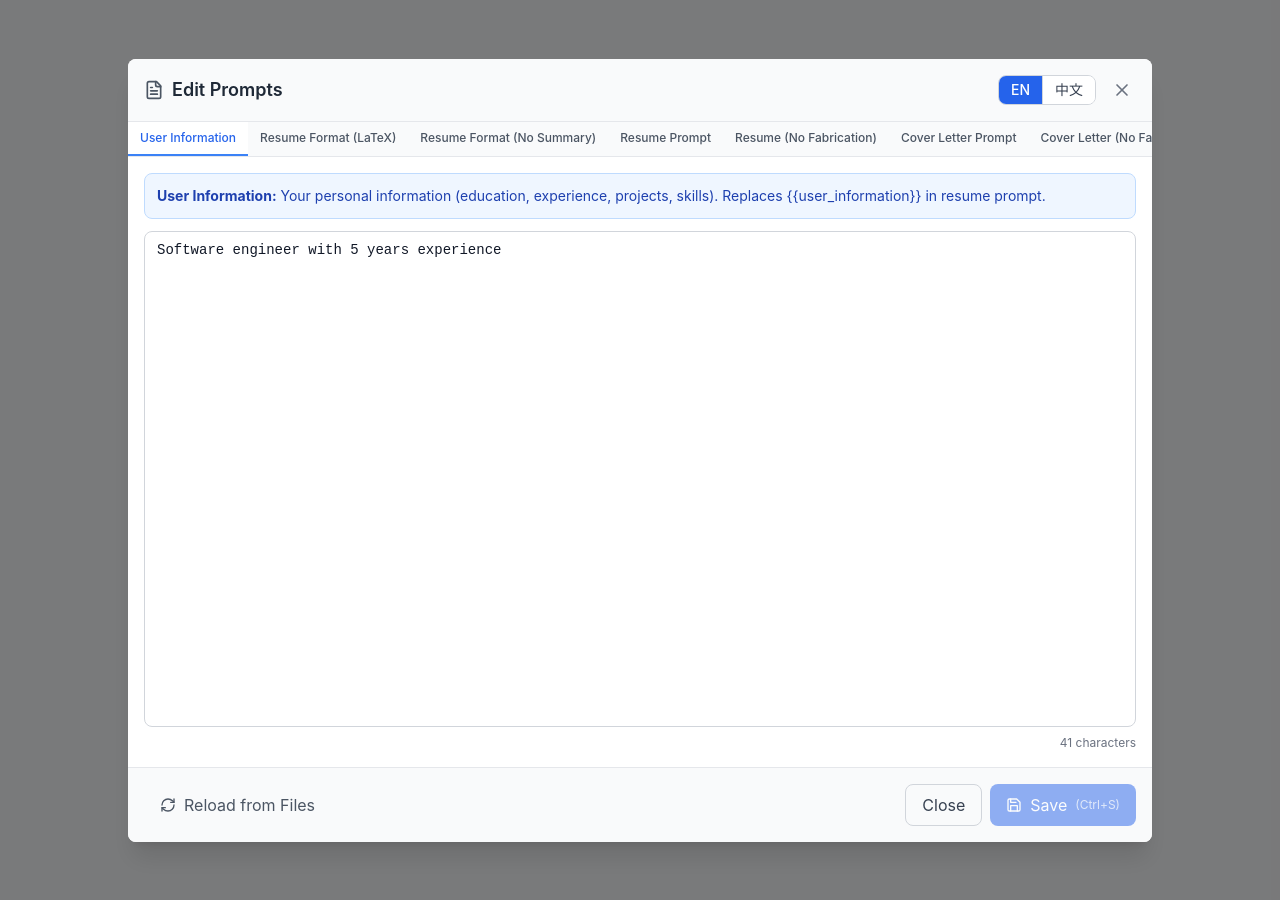
PromptsPanel › shows warnings from save response
// Make a change and save
Replace the text in the text box with "Missing placeholders" at (640, 478), box [144,230,1136,726]
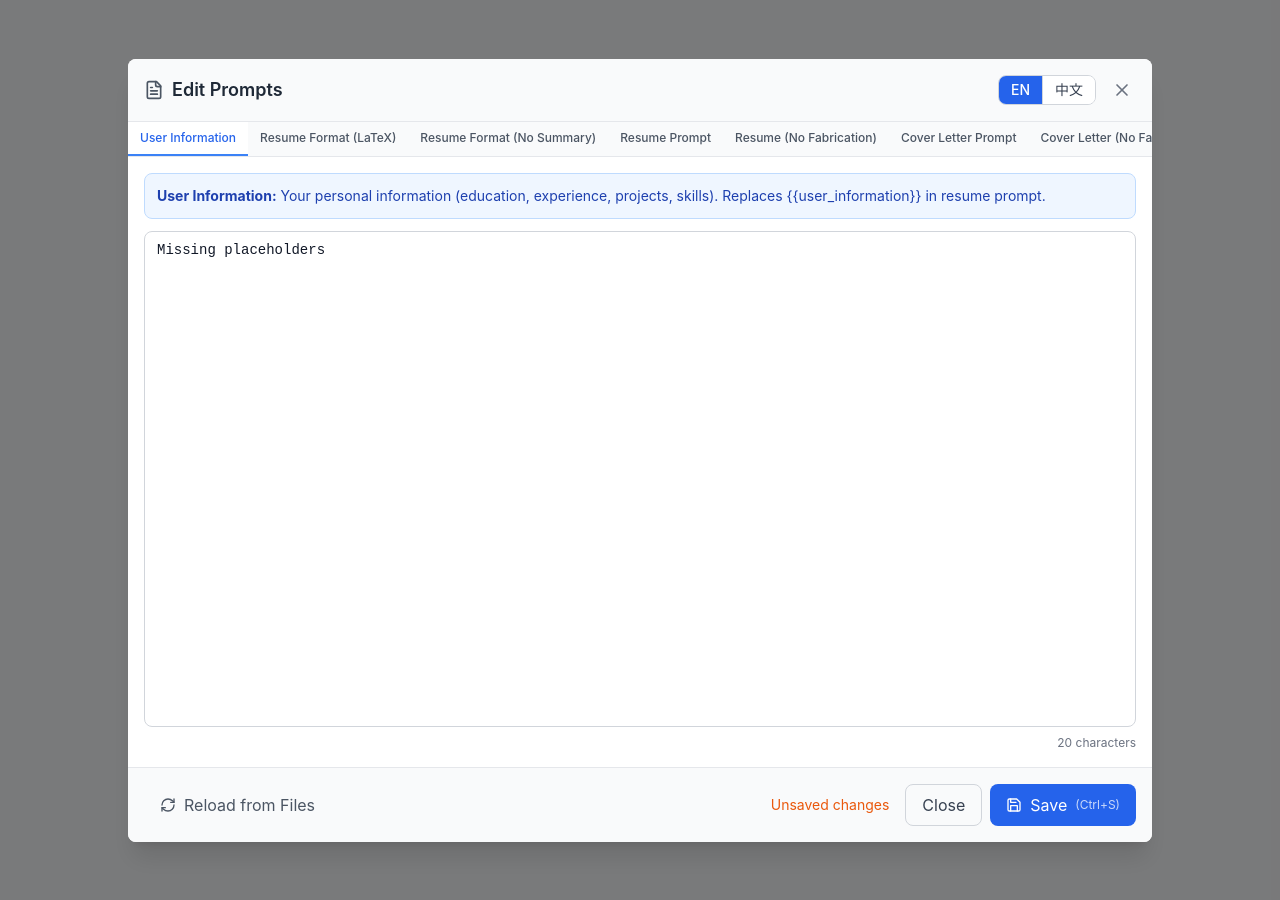
Click the button "Save (Ctrl+S)" at (1063, 804), box [990,784,1136,826]
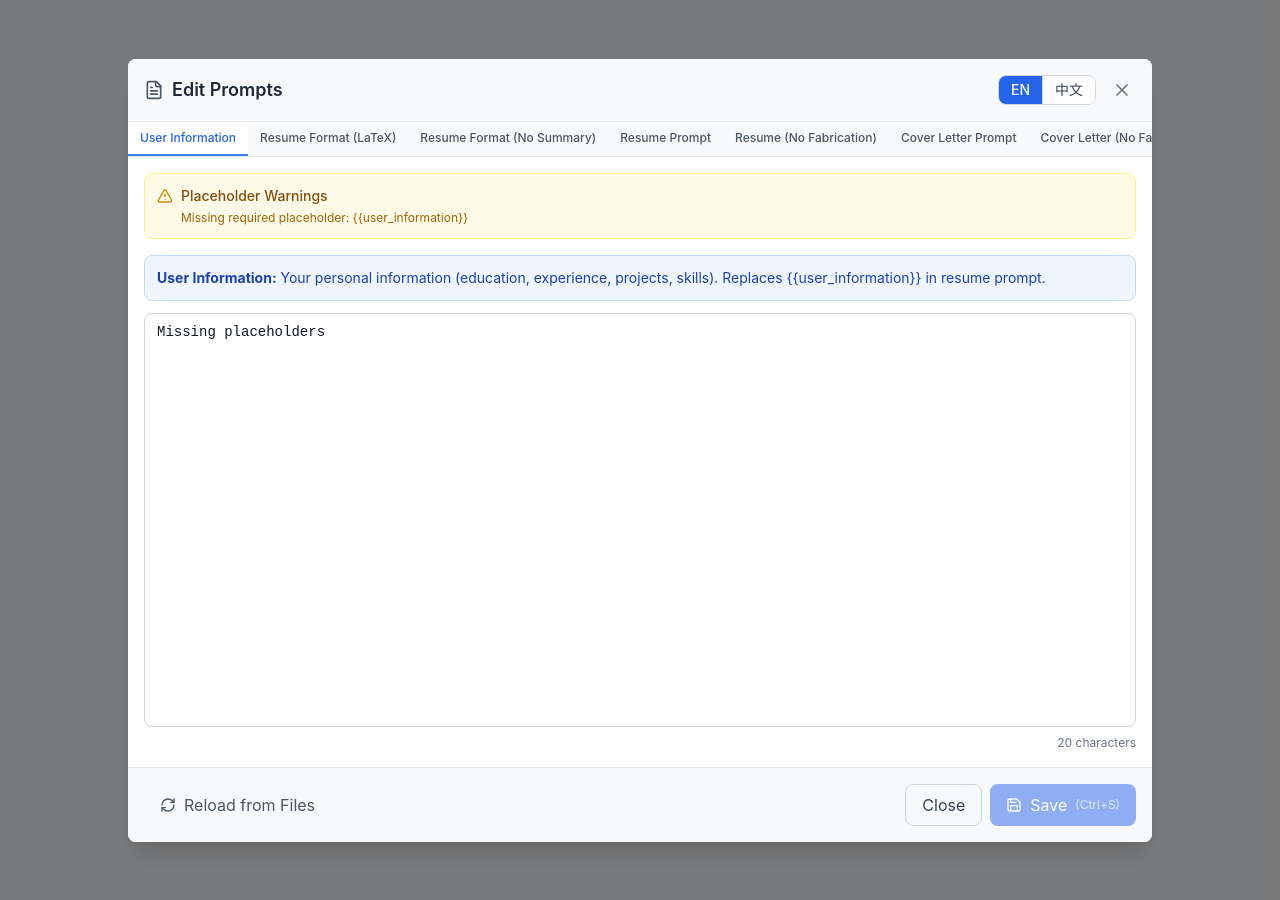
Now the text "Placeholder Warnings" is shown, box [181,186,328,204]
Now the list item "Missing required placeholder: {{user_information}}" is shown, box [181,210,468,226]
